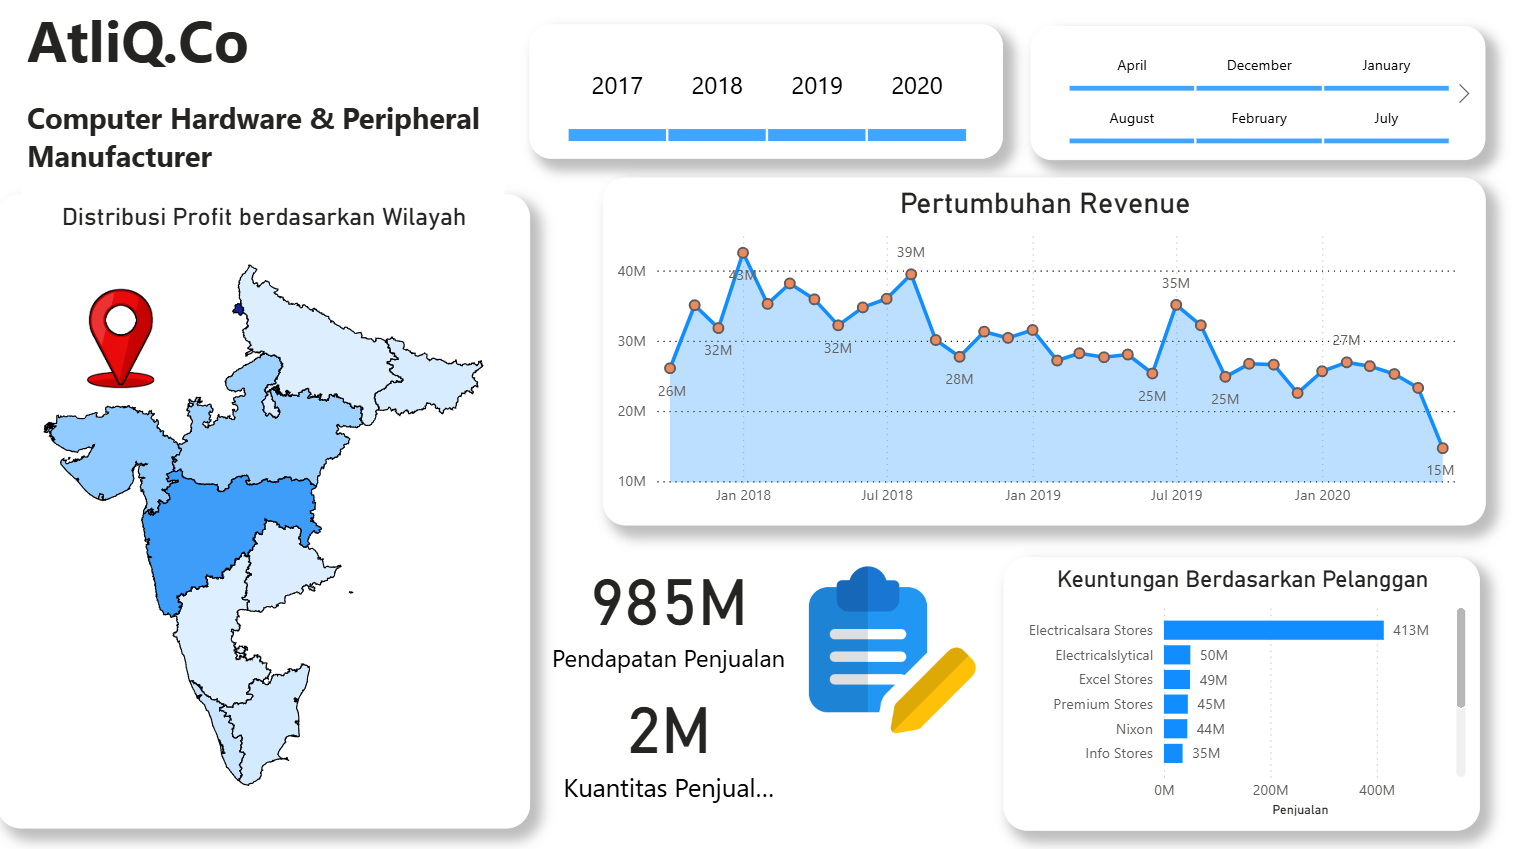

This screenshot's page, from the dashboard's own definition file:
{"tool":"powerbi","page":{"name":"Presentasi","canvas":[1280,720],"ordinal":0},"visuals":[{"type":"shapeMap","title":"Distribusi Profit berdasarkan Wilayah","fields":{"Category":["sales markets.region"]},"box":[0,168.1,445.2,530],"z":0},{"type":"card","fields":{"Values":["KeyProduct.Measure"]},"box":[448.2,445.2,224.1,140.8],"z":1000},{"type":"card","fields":{"Values":["KeyProduct.Measure"]},"box":[466.4,546.6,189.3,152.9],"z":2000},{"type":"barChart","title":"Keuntungan Berdasarkan Pelanggan","fields":{"Y":["KeyProduct.Measure"],"Category":["sales customers.custmer_name"]},"box":[840.4,470.9,398.2,228.6],"z":3000},{"type":"slicer","fields":{"Values":["sales date.month_name"]},"box":[863.1,27.3,380.1,112.1],"z":4000},{"type":"slicer","fields":{"Values":["sales date.year"]},"box":[445,26.7,395,111.7],"z":5000},{"type":"lineChart","title":"Pertumbuhan Revenue","fields":{"Y":["Sum(sales transactions.sales_revenue)"],"Category":["sales date.cy_date.Variation.Date Hierarchy.Year","sales date.cy_date.Variation.Date Hierarchy.Quarter","sales date.cy_date.Variation.Date Hierarchy.Month","sales date.cy_date.Variation.Date Hierarchy.Day"]},"box":[505.7,154.4,737.4,290.7],"z":6000},{"type":"image","box":[672.3,473.9,149.9,149.9],"z":7000},{"type":"textbox","box":[19.7,0,404.3,168.1],"z":8000},{"type":"image","box":[42.4,222.6,122.7,127.2],"z":9000}]}

Visuals, with their boxes in screenshot pixels (x1, y1, x2, y2), scaled from the page's 1280x720 canvas onto the 1522x849 screenshot:
"Distribusi Profit berdasarkan Wilayah" shapeMap: <region>0, 198, 529, 823</region>
card - KeyProduct.Measure: <region>533, 525, 799, 691</region>
card - KeyProduct.Measure: <region>555, 645, 780, 825</region>
"Keuntungan Berdasarkan Pelanggan" barChart: <region>999, 555, 1473, 825</region>
slicer - sales date.month_name: <region>1026, 32, 1478, 164</region>
slicer - sales date.year: <region>529, 31, 999, 163</region>
"Pertumbuhan Revenue" lineChart: <region>601, 182, 1478, 525</region>
image: <region>799, 559, 978, 736</region>
textbox: <region>23, 0, 504, 198</region>
image: <region>50, 262, 196, 412</region>
